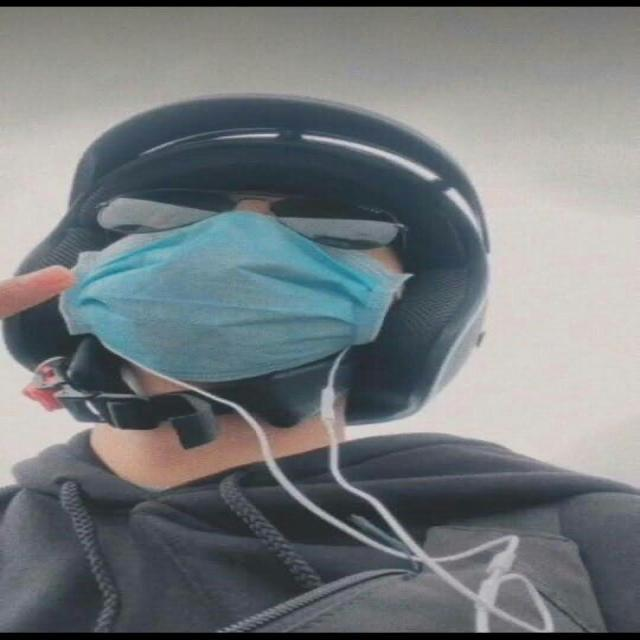Helmet: (0, 78, 500, 476)
